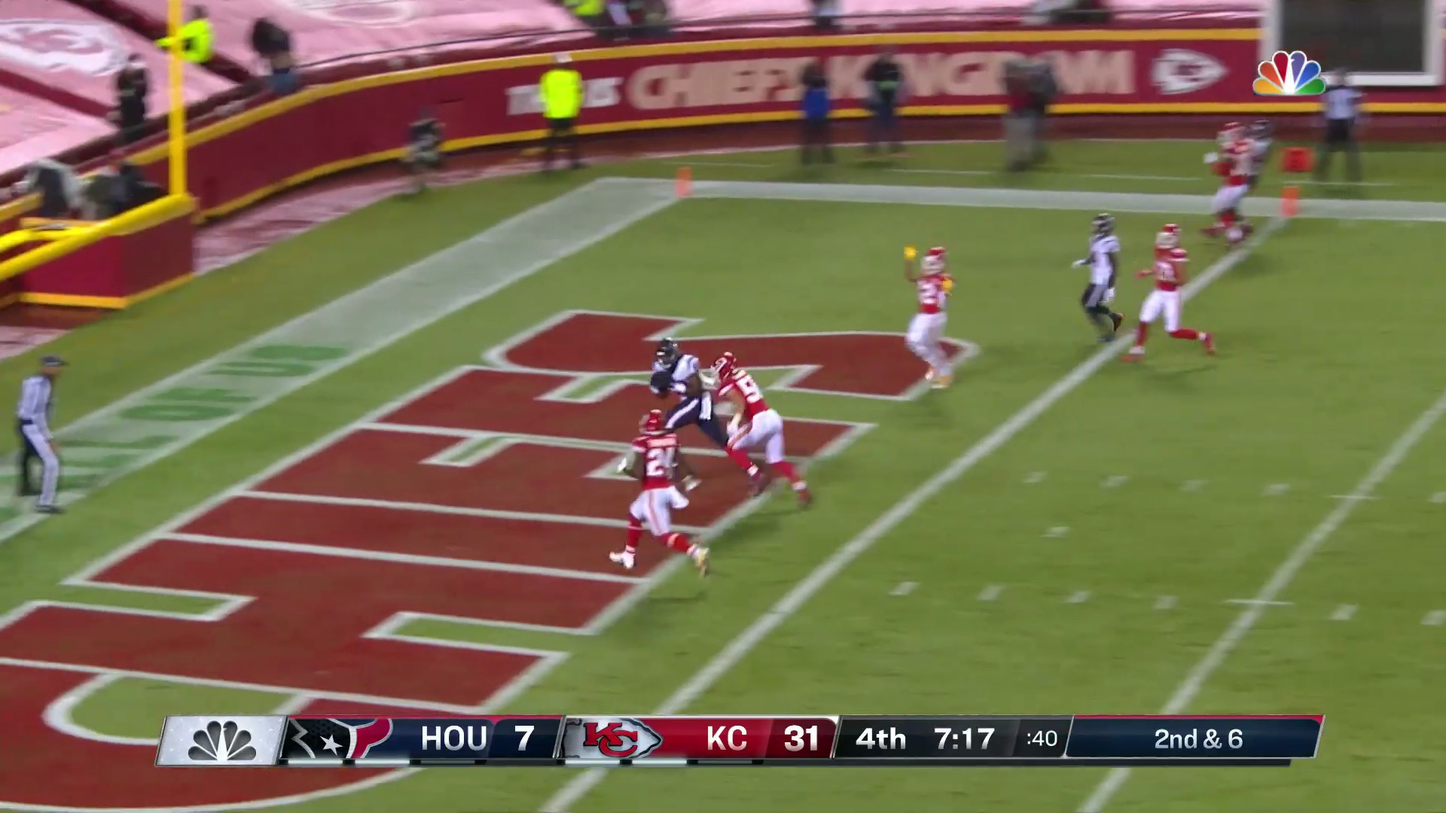Player: (708, 353, 783, 478), (904, 246, 971, 384), (624, 408, 686, 541), (1206, 122, 1254, 242), (1081, 212, 1120, 339)
